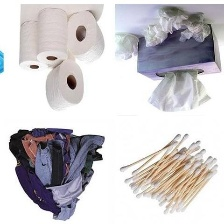tissue: (144, 67, 215, 115), (62, 6, 108, 66), (42, 56, 88, 116), (33, 5, 72, 67), (15, 18, 50, 75), (175, 9, 214, 46), (153, 3, 193, 36), (114, 30, 142, 64), (140, 21, 172, 50)
